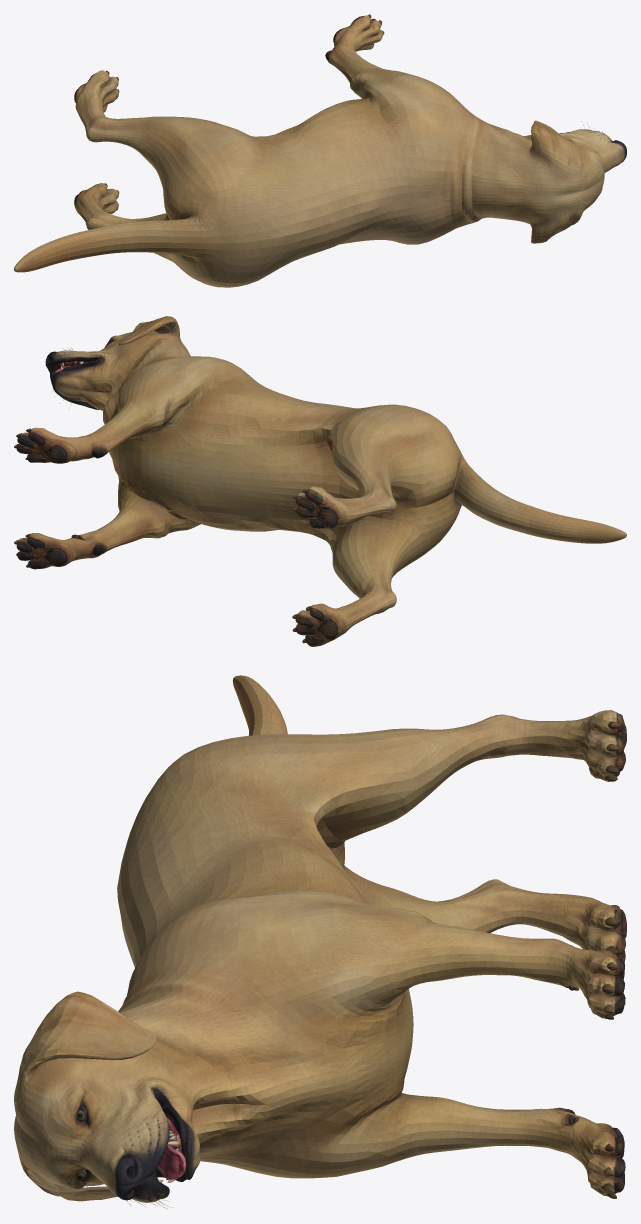
The model's file is labrador_dog.glb.
The picture shows the model from 3 angles, top to bottom: view 1: azimuth 30°, elevation 25°; view 2: azimuth 150°, elevation 25°; view 3: azimuth 270°, elevation 25°; orthographic projection. The views are drawn at different scales.
Visible parts, largest first — view 1: Object_1; view 2: Object_1; view 3: Object_1.
Boxes of the visible parts, x1,y1,x2,y2 form: Object_1: (14, 14, 626, 287); Object_1: (14, 316, 626, 646); Object_1: (14, 675, 626, 1208).
Size of the model in its own units: 1.05 by 0.2598 by 0.5365.
Materials: 1 (1 with a texture image).
